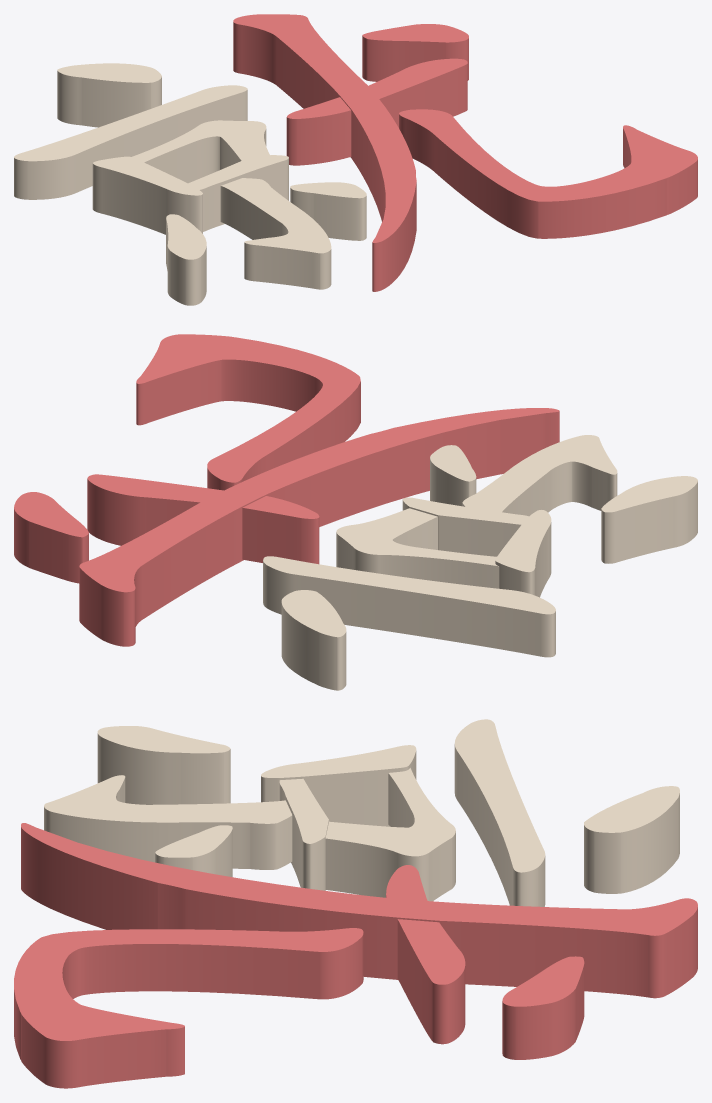
Rendered from hanzi117.fbx.
3 renders of one model, top to bottom at view 1: azimuth 30°, elevation 25°; view 2: azimuth 150°, elevation 25°; view 3: azimuth 270°, elevation 25°, orthographic. The views are drawn at different scales.
Visible parts, largest first — view 1: Curve.010, Curve.009, Curve.001, Curve.005, Curve.008, Curve.002, Curve, Curve.003, Curve.011, Curve.007, Curve.006, Curve.004; view 2: Curve.009, Curve.010, Curve.001, Curve.008, Curve.003, Curve.005, Curve.006, Curve, Curve.011, Curve.004, Curve.002, Curve.007; view 3: Curve.009, Curve.010, Curve.005, Curve.003, Curve.001, Curve.006, Curve, Curve.008, Curve.002, Curve.011, Curve.004, Curve.007.
Boxes of the visible parts, <box> form: Curve.010: <box>399,109,697,238</box>; Curve.009: <box>233,14,416,291</box>; Curve.001: <box>14,85,247,199</box>; Curve.005: <box>220,178,331,289</box>; Curve.008: <box>286,58,467,165</box>; Curve.002: <box>92,156,202,234</box>; Curve: <box>57,63,161,127</box>; Curve.003: <box>132,120,269,183</box>; Curve.011: <box>362,24,468,81</box>; Curve.007: <box>290,182,366,240</box>; Curve.006: <box>166,214,206,305</box>; Curve.004: <box>188,155,288,231</box>; Curve.009: <box>79,408,559,646</box>; Curve.010: <box>136,334,360,490</box>; Curve.001: <box>263,556,555,657</box>; Curve.008: <box>87,474,319,564</box>; Curve.003: <box>336,508,499,588</box>; Curve.005: <box>462,435,617,516</box>; Curve.006: <box>601,476,697,563</box>; Curve: <box>281,590,346,690</box>; Curve.011: <box>14,492,88,583</box>; Curve.004: <box>402,497,528,556</box>; Curve.002: <box>495,510,551,597</box>; Curve.007: <box>430,445,476,506</box>; Curve.009: <box>21,823,697,998</box>; Curve.010: <box>14,928,363,1088</box>; Curve.005: <box>44,775,292,869</box>; Curve.003: <box>325,768,455,901</box>; Curve.001: <box>454,719,545,906</box>; Curve.006: <box>97,726,230,804</box>; Curve: <box>584,786,679,893</box>; Curve.008: <box>386,865,465,1044</box>; Curve.002: <box>261,745,416,826</box>; Curve.011: <box>502,956,584,1059</box>; Curve.004: <box>279,778,328,890</box>; Curve.007: <box>155,825,232,877</box>.
Bounding box in the file's own units: 25.27 × 22.77 × 2.29.
